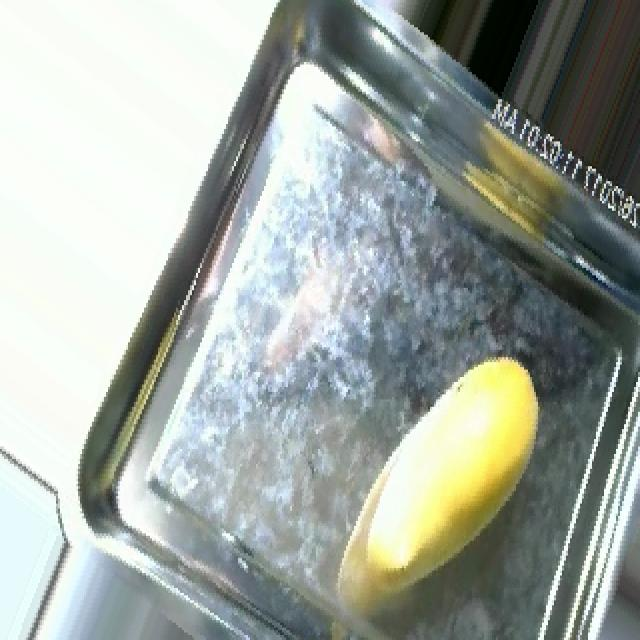fruit: (316, 328, 568, 618), (88, 471, 316, 640)
